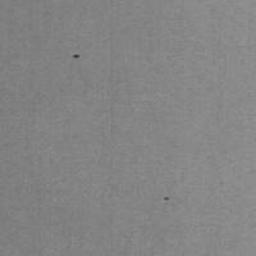Inclusion: (163, 196, 172, 201)
